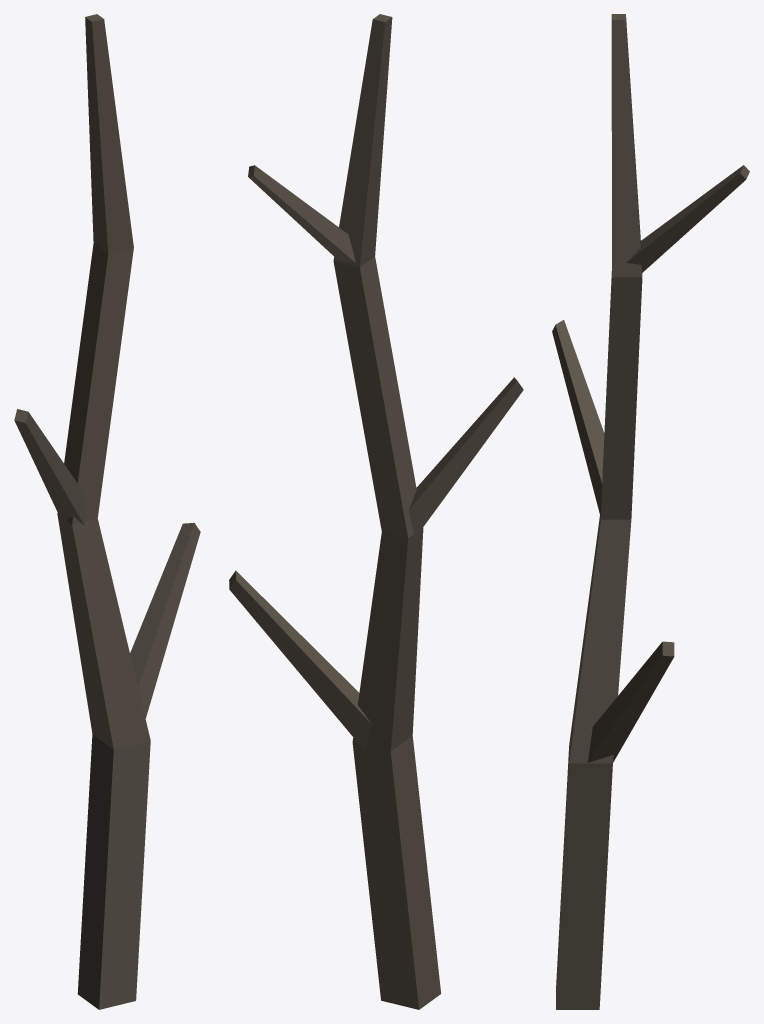
The model's file is SM_Prop_Stick_01.fbx.
The picture shows the model from 3 angles, left to right: view 1: azimuth 30°, elevation 25°; view 2: azimuth 150°, elevation 25°; view 3: azimuth 270°, elevation 25°; orthographic projection. The views are drawn at different scales.
Visible parts, largest first — view 1: SM_Prop_Stick_01; view 2: SM_Prop_Stick_01; view 3: SM_Prop_Stick_01.
Part boxes in pixels (box(x1,y1,x2,y2)): SM_Prop_Stick_01: box(14, 14, 200, 1009); SM_Prop_Stick_01: box(229, 14, 523, 1009); SM_Prop_Stick_01: box(552, 14, 749, 1009).
Bounding box in the file's own units: 34.67 × 135 × 24.54.
1 material, 1 textured.
